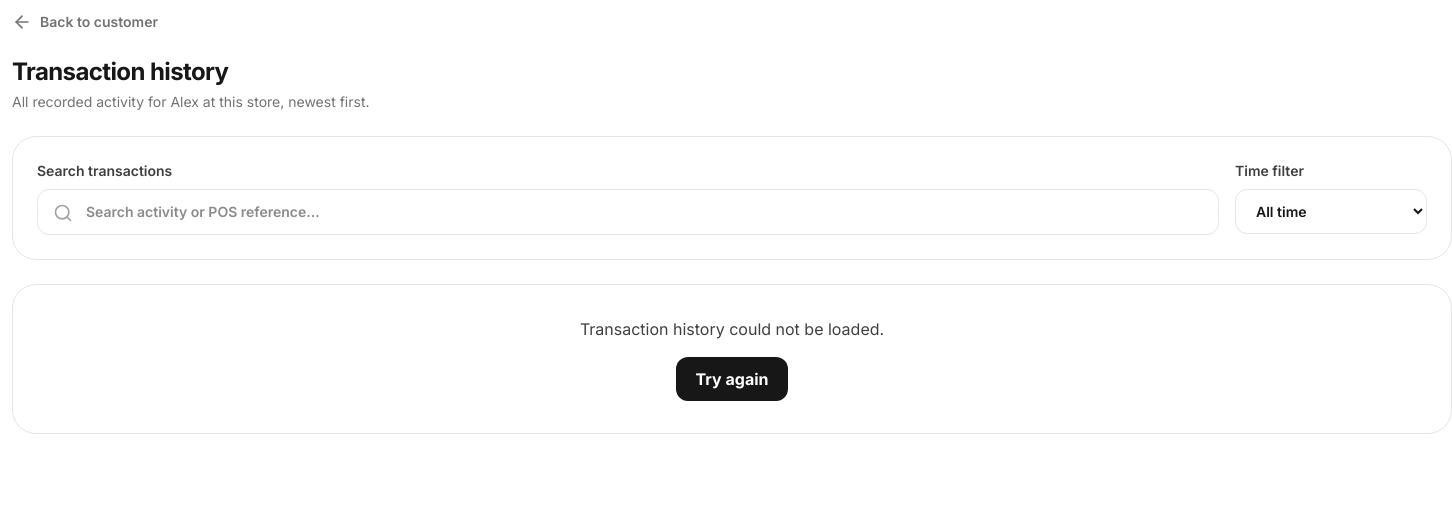
Test case: customer transaction history › does not present a failed load as empty history and supports retry
Check: the message shows "could not be loaded", box 580,319 -> 884,339
Click the button "Try again" at [732, 379], box 676,357 -> 788,401
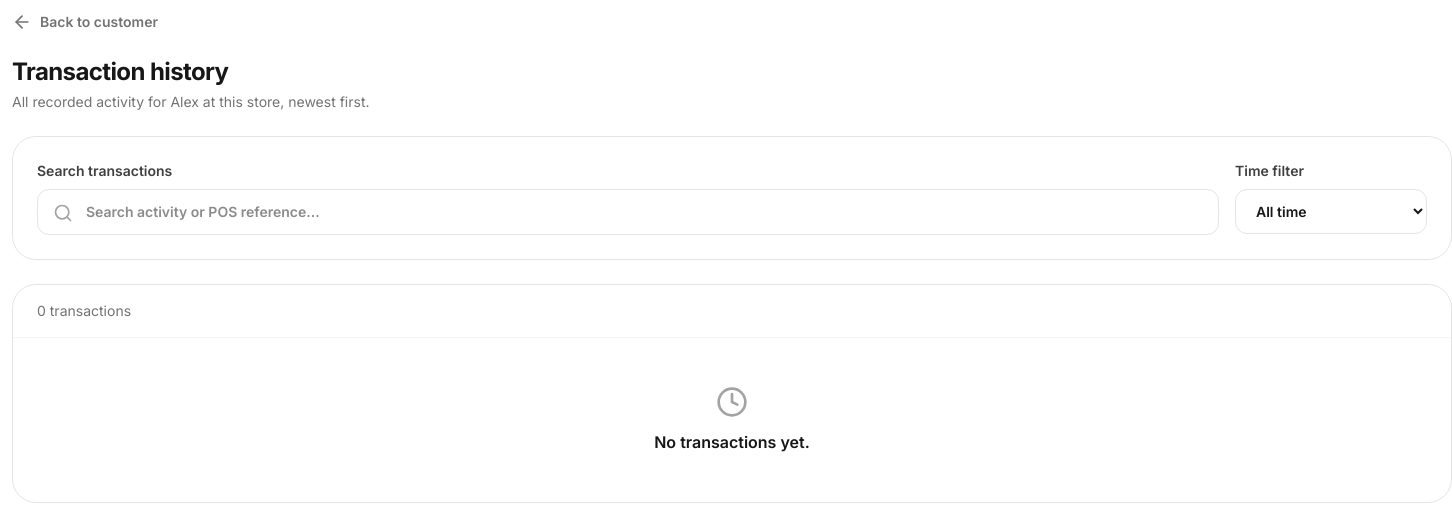
Check: the text "No transactions yet." is shown, box 654,432 -> 810,452
